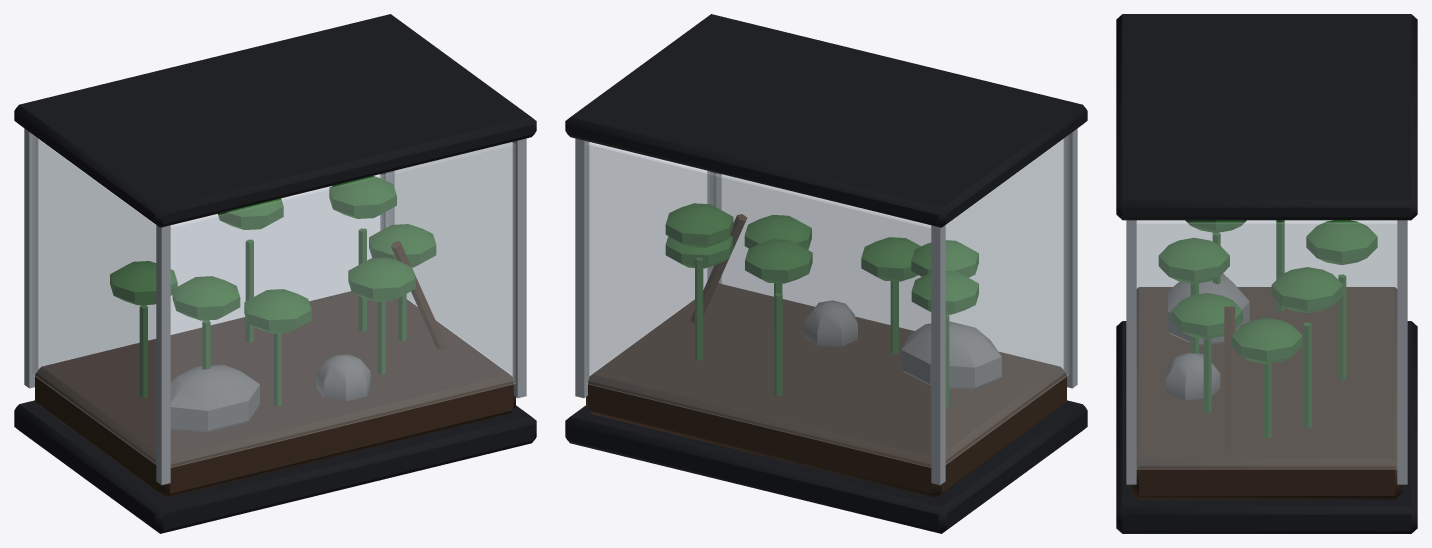
Rendered from specimen_desktop_terrarium.glb.
The picture shows the model from 3 angles, left to right: view 1: azimuth 30°, elevation 25°; view 2: azimuth 150°, elevation 25°; view 3: azimuth 270°, elevation 25°; orthographic projection. The views are drawn at different scales.
Parts seen in each view (by area): view 1: specimen_desktop_terrarium; view 2: specimen_desktop_terrarium; view 3: specimen_desktop_terrarium.
Part boxes in pixels (x1,y1,x2,y2): specimen_desktop_terrarium: [14, 14, 536, 533]; specimen_desktop_terrarium: [565, 14, 1087, 533]; specimen_desktop_terrarium: [1116, 14, 1417, 533].
Size of the model in its own units: 0.6 by 0.49 by 0.4.
